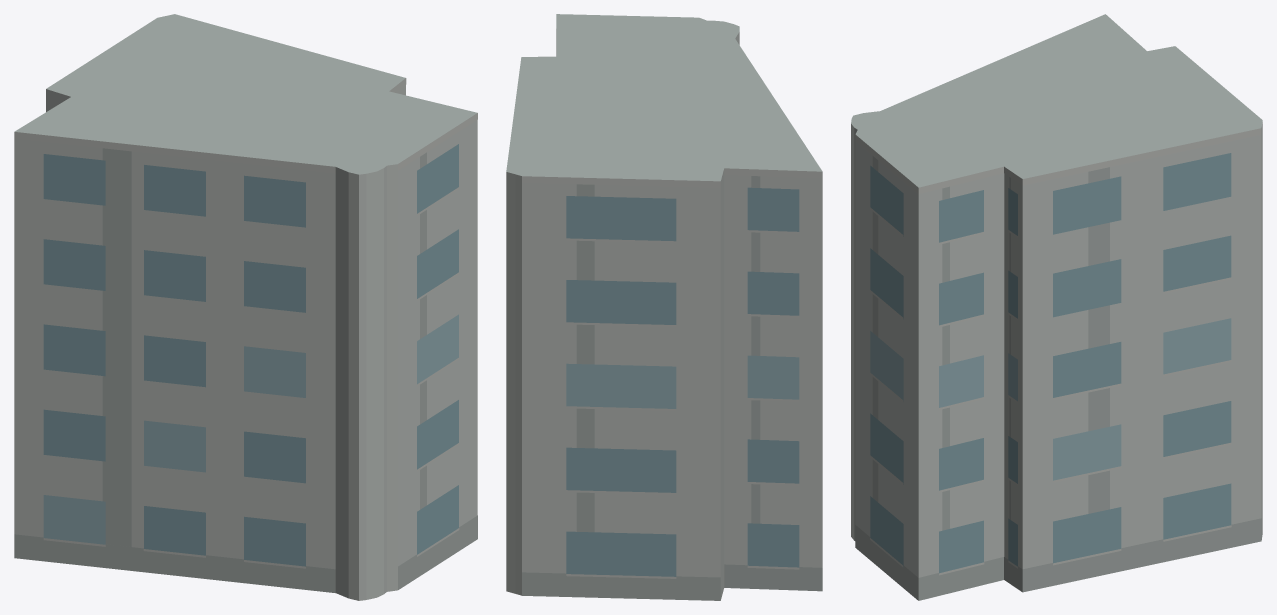
Rendered from survey-upis-32854421.glb.
3 renders of one model, left to right at view 1: azimuth 30°, elevation 25°; view 2: azimuth 150°, elevation 25°; view 3: azimuth 270°, elevation 25°, orthographic. The views are drawn at different scales.
Parts seen in each view (by area): view 1: survey-upis-32854421.tmp; view 2: survey-upis-32854421.tmp; view 3: survey-upis-32854421.tmp.
Boxes of the visible parts, <box> form: survey-upis-32854421.tmp: <box>14,14,477,600</box>; survey-upis-32854421.tmp: <box>506,14,822,600</box>; survey-upis-32854421.tmp: <box>851,14,1262,600</box>.
Size of the model in its own units: 13.71 by 15.2 by 13.73.
